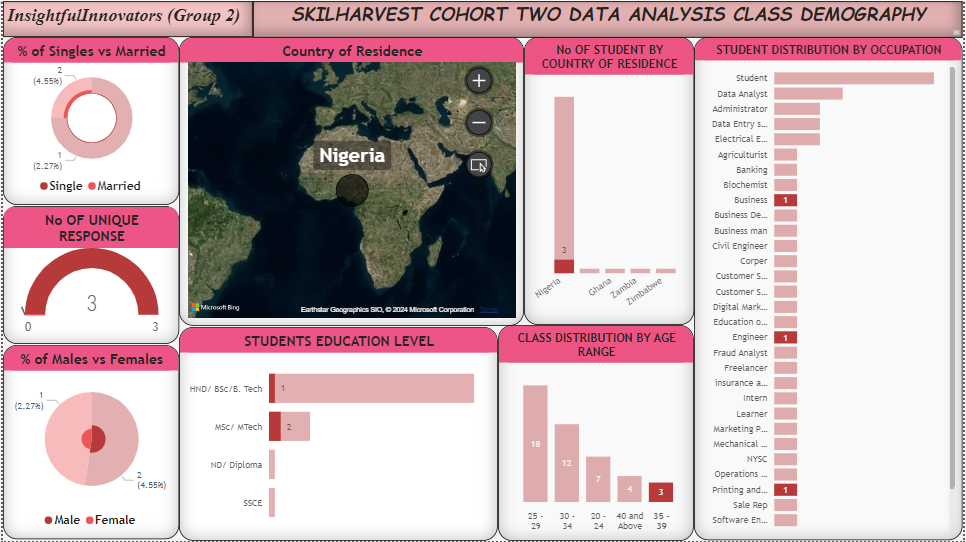

The page's visual inventory and layout, read from the dashboard file:
{"tool":"powerbi","page":{"name":"Page 1","canvas":[1280,720],"ordinal":0},"visuals":[{"type":"map","fields":{"Category":["Form Responses 1.Country of Residence"]},"box":[234.7,48,460,385.3],"z":1000},{"type":"pieChart","title":"% of Males vs Females","fields":{"Category":["Form Responses 1.Gender"],"Y":["CountNonNull(Form Responses 1.Gender)"]},"box":[0,458.7,234.7,258.7],"z":2000},{"type":"donutChart","title":"% of Singles vs Married","fields":{"Y":["CountNonNull(Form Responses 1.Marital Status)"],"Category":["Form Responses 1.Marital Status"]},"box":[0,48,234.7,224],"z":3000},{"type":"textbox","title":"SKILHARVEST COHORT TWO DATA ANALYSIS CLASS DEMOGRAPHY","box":[333.9,0,946.1,48.5],"z":4000},{"type":"textbox","box":[0,0,333.3,48],"z":5000},{"type":"clusteredColumnChart","title":"CLASS DISTRIBUTION BY AGE RANGE","fields":{"Category":["Form Responses 1.Age Range"],"Y":["CountNonNull(Form Responses 1.Age Range)"]},"box":[660,432,261.3,288],"z":6000},{"type":"gauge","title":"No OF UNIQUE RESPONSE","fields":{"Y":["Count(Form Responses 1.Names)"],"MaxValue":["Count(Form Responses 1.Names)"]},"box":[0,273.3,234.7,184],"z":7000},{"type":"clusteredBarChart","title":"STUDENTS EDUCATION LEVEL","fields":{"Category":["Form Responses 1.Highest level of Education"],"Y":["CountNonNull(Form Responses 1.Highest level of Education)"]},"box":[234.7,434.7,425.3,285.3],"z":8000},{"type":"clusteredBarChart","title":"STUDENT DISTRIBUTION BY OCCUPATION","fields":{"Category":["Form Responses 1.Occupation"],"Y":["CountNonNull(Form Responses 1.Occupation)"]},"box":[921.8,48.5,358.2,670.7],"z":9000},{"type":"clusteredColumnChart","title":"No OF STUDENT BY COUNTRY OF RESIDENCE","fields":{"Category":["Form Responses 1.Country of Residence"],"Y":["Count(Form Responses 1.Names)"]},"box":[694.7,48,226.7,384],"z":9001}]}

Visuals, with their boxes in screenshot pixels (x1, y1, x2, y2), scaled from the page's 1280x720 canvas onto the 966x542 screenshot:
map - Form Responses 1.Country of Residence: box(177, 36, 524, 326)
"% of Males vs Females" pieChart: box(0, 345, 177, 540)
"% of Singles vs Married" donutChart: box(0, 36, 177, 205)
"SKILHARVEST COHORT TWO DATA ANALYSIS CLASS DEMOGRAPHY" textbox: box(252, 0, 965, 37)
textbox: box(0, 0, 252, 36)
"CLASS DISTRIBUTION BY AGE RANGE" clusteredColumnChart: box(498, 325, 695, 541)
"No OF UNIQUE RESPONSE" gauge: box(0, 206, 177, 344)
"STUDENTS EDUCATION LEVEL" clusteredBarChart: box(177, 327, 498, 541)
"STUDENT DISTRIBUTION BY OCCUPATION" clusteredBarChart: box(696, 37, 965, 541)
"No OF STUDENT BY COUNTRY OF RESIDENCE" clusteredColumnChart: box(524, 36, 695, 325)
